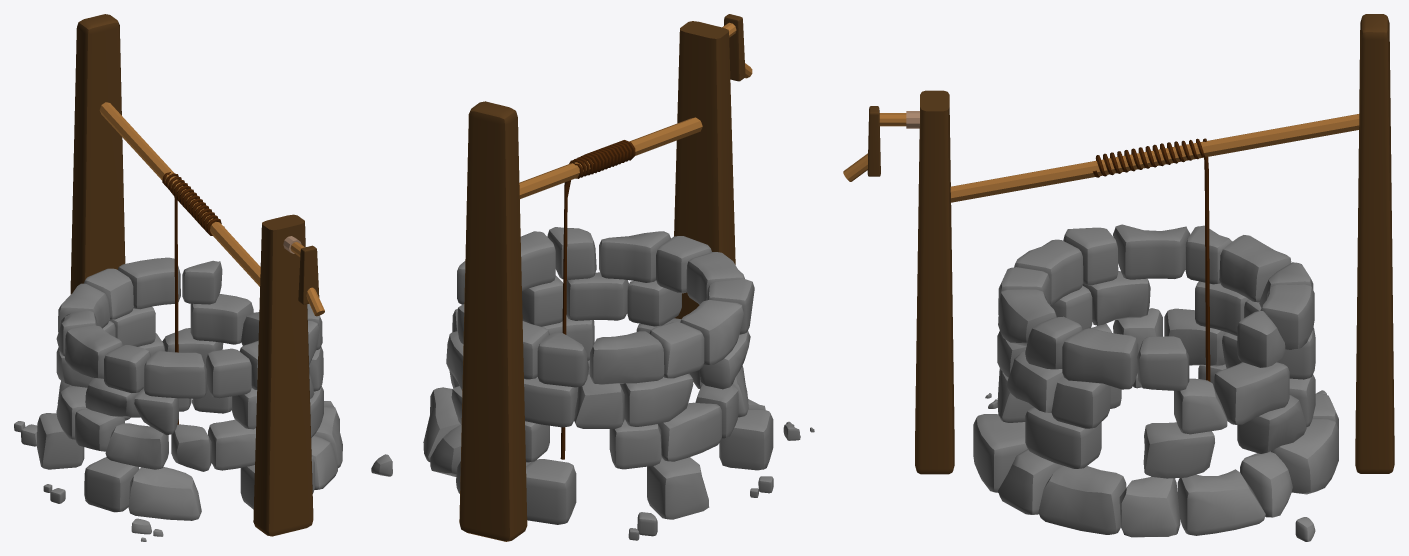
The model's file is Pozo Final.fbx.
The picture shows the model from 3 angles, left to right: view 1: azimuth 30°, elevation 25°; view 2: azimuth 150°, elevation 25°; view 3: azimuth 270°, elevation 25°; orthographic projection. The views are drawn at different scales.
Parts seen in each view (by area): view 1: Pozo; view 2: Pozo; view 3: Pozo.
Part boxes in pixels (<box>): Pozo: <box>14,14,342,541</box>; Pozo: <box>371,14,814,541</box>; Pozo: <box>843,14,1394,541</box>.
Bounding box in the file's own units: 157 × 201 × 225.
